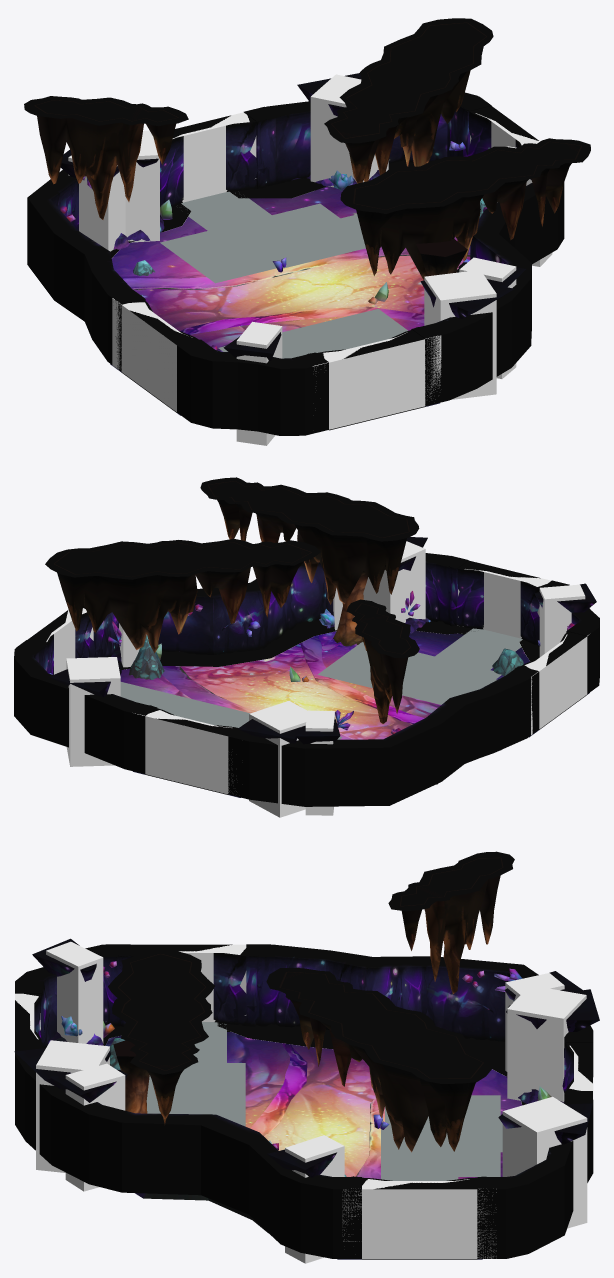
The model's file is Dungeon_101_RoomSW_006.fbx.
3 renders of one model, top to bottom at view 1: azimuth 30°, elevation 25°; view 2: azimuth 150°, elevation 25°; view 3: azimuth 270°, elevation 25°, orthographic. The views are drawn at different scales.
Parts seen in each view (by area): view 1: Dun_101_RoomSW_001_wall, Dungeon_011_Iwa004_2, Dun_101_RoomSW_001_ground, DoorWay_NavMask (1) (×4), Dungeon_011_Iwa004_3, Dungeon_011_Iwa004_1, Dun_101_Door_002 (×4), Quad_Nav_SP (5), Dun_101_RoomSW_001_kawa01, Cube_07, Dun_101_RoomSW_001_Object02, Cube_01 (+9 smaller); view 2: Dun_101_RoomSW_001_wall, Dungeon_011_Iwa004_3, Dungeon_011_Iwa004_2, DoorWay_NavMask (1) (×4), Dun_101_RoomSW_001_ground, Dun_101_Door_002 (×4), Dungeon_011_Iwa004_1, Quad_Nav_SP (2), Quad_Nav_SP, Dun_101_RoomSW_001_shadow, Dun_101_RoomSW_001_Object02, Cube_07 (+12 smaller); view 3: Dun_101_RoomSW_001_wall, Dungeon_011_Iwa004_3, Dun_101_RoomSW_001_ground, Dungeon_011_Iwa004_2, DoorWay_NavMask (1) (×2), Dun_101_Door_002 (×4), Dungeon_011_Iwa004_1, Cube_02, Dun_101_RoomSW_001_Object02, Cube_07, Quad_Nav_SP (5), Cube_04 (+13 smaller).
Boxes of the visible parts, box(x1,y1,x2,y2) form: Dun_101_RoomSW_001_wall: box(27, 92, 564, 435); Dungeon_011_Iwa004_2: box(340, 138, 590, 279); Dun_101_RoomSW_001_ground: box(110, 178, 470, 415); DoorWay_NavMask (1) (×4): box(112, 112, 539, 429); Dungeon_011_Iwa004_3: box(324, 18, 493, 183); Dungeon_011_Iwa004_1: box(24, 96, 188, 219); Dun_101_Door_002 (×4): box(110, 96, 538, 430); Quad_Nav_SP (5): box(160, 203, 365, 283); Dun_101_RoomSW_001_kawa01: box(123, 246, 470, 334); Cube_07: box(310, 74, 388, 187); Dun_101_RoomSW_001_Object02: box(60, 73, 531, 360); Cube_01: box(424, 270, 496, 399); Dun_101_RoomSW_001_wall: box(14, 553, 599, 806); Dungeon_011_Iwa004_3: box(45, 538, 320, 653); Dungeon_011_Iwa004_2: box(200, 477, 419, 604); DoorWay_NavMask (1) (×4): box(49, 569, 589, 794); Dun_101_RoomSW_001_ground: box(120, 630, 589, 797); Dun_101_Door_002 (×4): box(16, 556, 596, 794); Dungeon_011_Iwa004_1: box(346, 599, 419, 723); Quad_Nav_SP (2): box(404, 628, 522, 693); Quad_Nav_SP: box(317, 642, 501, 704); Dun_101_RoomSW_001_shadow: box(121, 620, 539, 669); Dun_101_RoomSW_001_Object02: box(49, 537, 596, 744); Cube_07: box(66, 657, 120, 766); Dun_101_RoomSW_001_wall: box(15, 944, 593, 1258); Dungeon_011_Iwa004_3: box(266, 968, 491, 1152); Dun_101_RoomSW_001_ground: box(105, 1032, 522, 1259); Dungeon_011_Iwa004_2: box(108, 949, 214, 1125); DoorWay_NavMask (1) (×2): box(179, 944, 496, 1258); Dun_101_Door_002 (×4): box(15, 944, 593, 1259); Dungeon_011_Iwa004_1: box(388, 851, 514, 993); Cube_02: box(507, 986, 586, 1101); Dun_101_RoomSW_001_Object02: box(14, 938, 599, 1177); Cube_07: box(502, 1096, 587, 1228); Quad_Nav_SP (5): box(385, 1095, 500, 1176); Cube_04: box(46, 941, 103, 1043).
Size of what is drawn, in the model's own units: 15 by 6.03 by 15.2.
